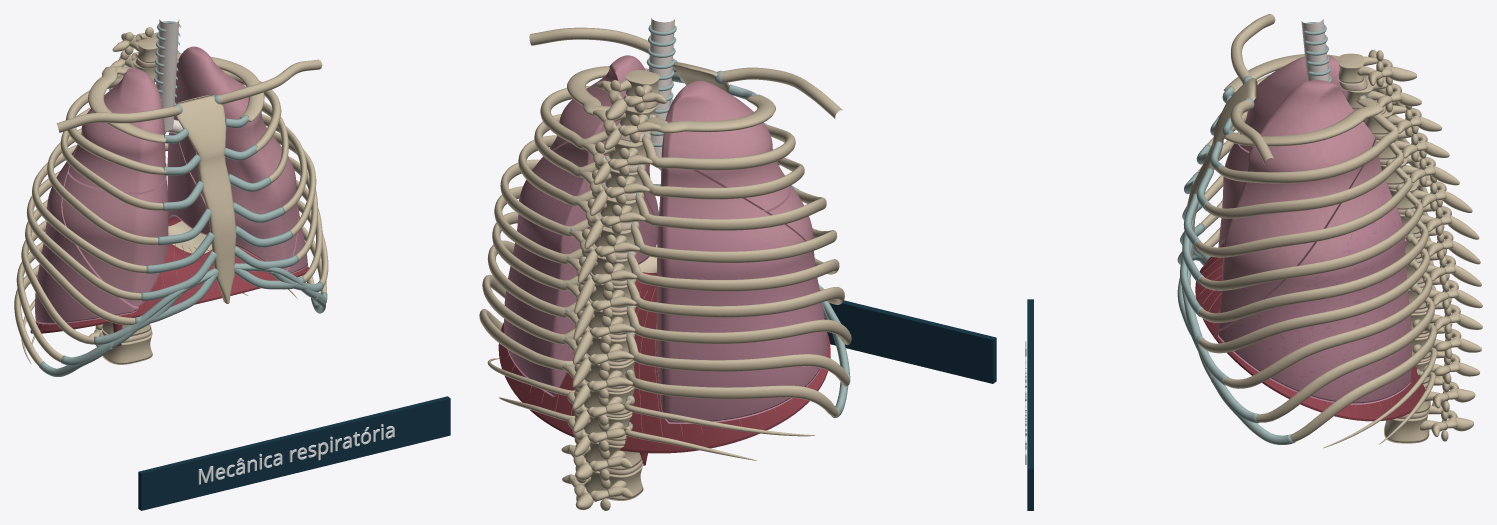
Rendered from nivel-2.glb.
3 views of the same model, side by side, from view 1: azimuth 30°, elevation 25°; view 2: azimuth 150°, elevation 25°; view 3: azimuth 270°, elevation 25° (orthographic). The views are drawn at different scales.
Parts seen in each view (by area): view 1: movel_103, placa_solida, movel_101, movel_5, movel_81, movel_78, movel_31, movel_85, texto_em_relevo, movel_37, movel_25, movel_43 (+26 smaller); view 2: movel_103, movel_78, movel_101, movel_81, placa_solida, movel_5, movel_55, movel_49, movel_43, movel_37, movel_31, movel_61 (+19 smaller); view 3: movel_101, movel_78, movel_103, movel_81, movel_5, movel_46, movel_40, movel_34, movel_28, movel_52, movel_16, movel_22 (+11 smaller).
Boxes of the visible parts, bbox=[...] form: movel_103: bbox=[35, 68, 168, 324]; placa_solida: bbox=[138, 396, 450, 510]; movel_101: bbox=[167, 46, 307, 273]; movel_5: bbox=[56, 59, 322, 303]; movel_81: bbox=[30, 217, 308, 346]; movel_78: bbox=[89, 27, 158, 364]; movel_31: bbox=[32, 144, 146, 273]; movel_85: bbox=[156, 19, 179, 131]; texto_em_relevo: bbox=[198, 424, 394, 484]; movel_37: bbox=[26, 171, 141, 300]; movel_25: bbox=[47, 128, 158, 245]; movel_43: bbox=[25, 199, 135, 325]; movel_103: bbox=[656, 81, 827, 423]; movel_78: bbox=[561, 70, 666, 510]; movel_101: bbox=[504, 55, 658, 396]; movel_81: bbox=[498, 243, 830, 465]; placa_solida: bbox=[824, 300, 996, 383]; movel_5: bbox=[529, 27, 842, 118]; movel_55: bbox=[626, 332, 849, 386]; movel_49: bbox=[626, 305, 851, 344]; movel_43: bbox=[627, 279, 844, 317]; movel_37: bbox=[627, 251, 839, 291]; movel_31: bbox=[630, 221, 837, 262]; movel_61: bbox=[625, 369, 838, 416]; movel_101: bbox=[1218, 80, 1411, 404]; movel_78: bbox=[1338, 50, 1482, 443]; movel_103: bbox=[1218, 55, 1364, 247]; movel_81: bbox=[1195, 244, 1425, 421]; movel_5: bbox=[1185, 14, 1275, 258]; movel_46: bbox=[1198, 234, 1429, 353]; movel_40: bbox=[1198, 209, 1428, 322]; movel_34: bbox=[1199, 184, 1423, 290]; movel_28: bbox=[1195, 159, 1412, 257]; movel_52: bbox=[1224, 259, 1432, 388]; movel_16: bbox=[1216, 113, 1398, 183]; movel_22: bbox=[1205, 135, 1403, 218].
Size of the model in its own units: 0.48 by 0.55 by 0.547.
72 materials, 2 textured.
